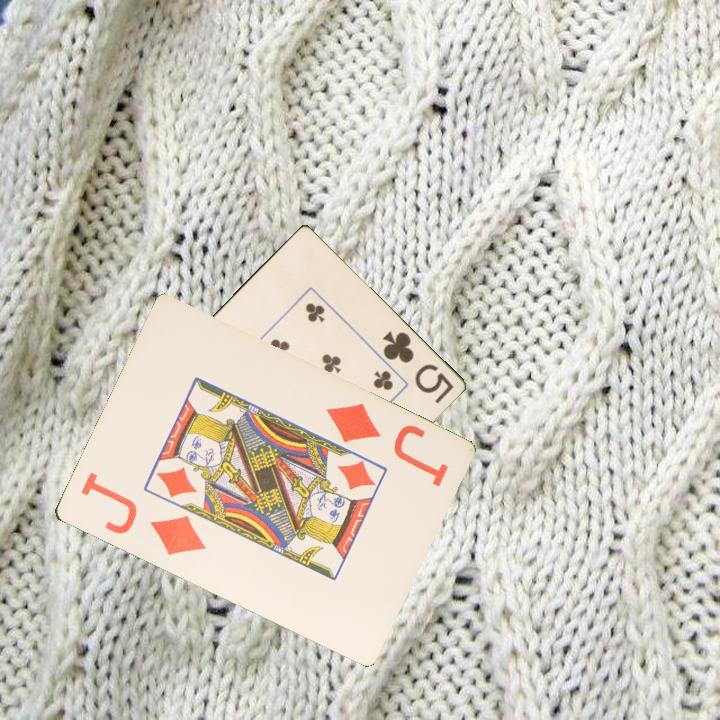5c: (378, 327, 456, 406)
Jd: (77, 468, 209, 559), (321, 399, 451, 491)
